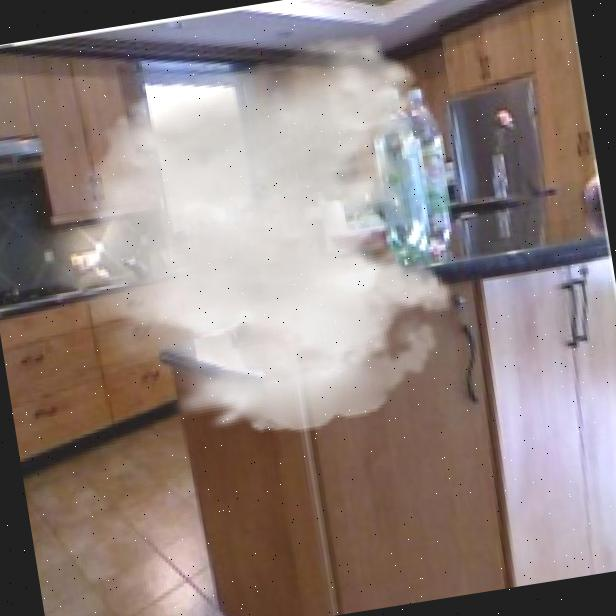smoke: (12, 22, 484, 468)
